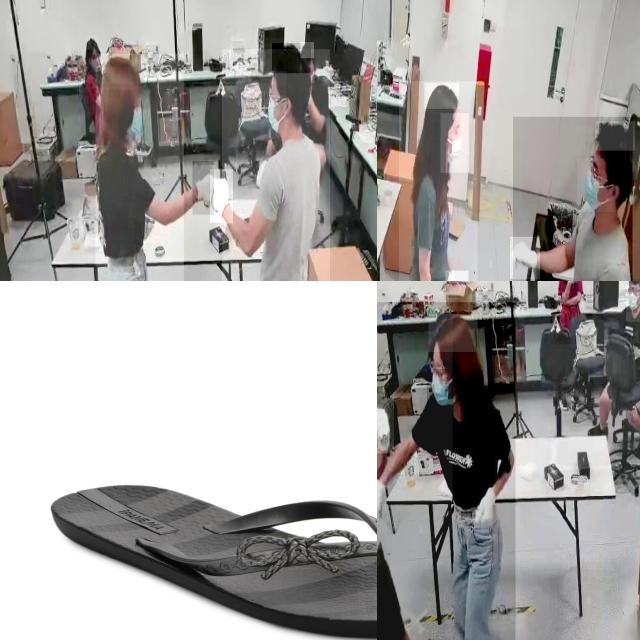Sandals: (47, 482, 377, 640)
face_mask: (578, 158, 618, 212), (118, 90, 150, 150), (260, 72, 286, 138), (441, 113, 469, 173), (427, 369, 453, 417), (625, 285, 640, 321)
hand_glove: (473, 487, 499, 544), (510, 237, 540, 279), (210, 170, 233, 223), (192, 162, 214, 216), (377, 398, 394, 453), (377, 476, 386, 533), (445, 270, 468, 281)
head_nohelmet: (428, 314, 478, 353), (101, 56, 141, 88), (272, 43, 311, 74), (596, 122, 636, 152), (424, 83, 460, 110), (300, 42, 314, 59), (86, 36, 100, 50)
person: (377, 302, 516, 640), (377, 306, 453, 640), (221, 49, 330, 281), (95, 53, 184, 281), (513, 117, 633, 281), (399, 81, 478, 281), (593, 281, 640, 450), (550, 281, 591, 345), (86, 30, 104, 124)
